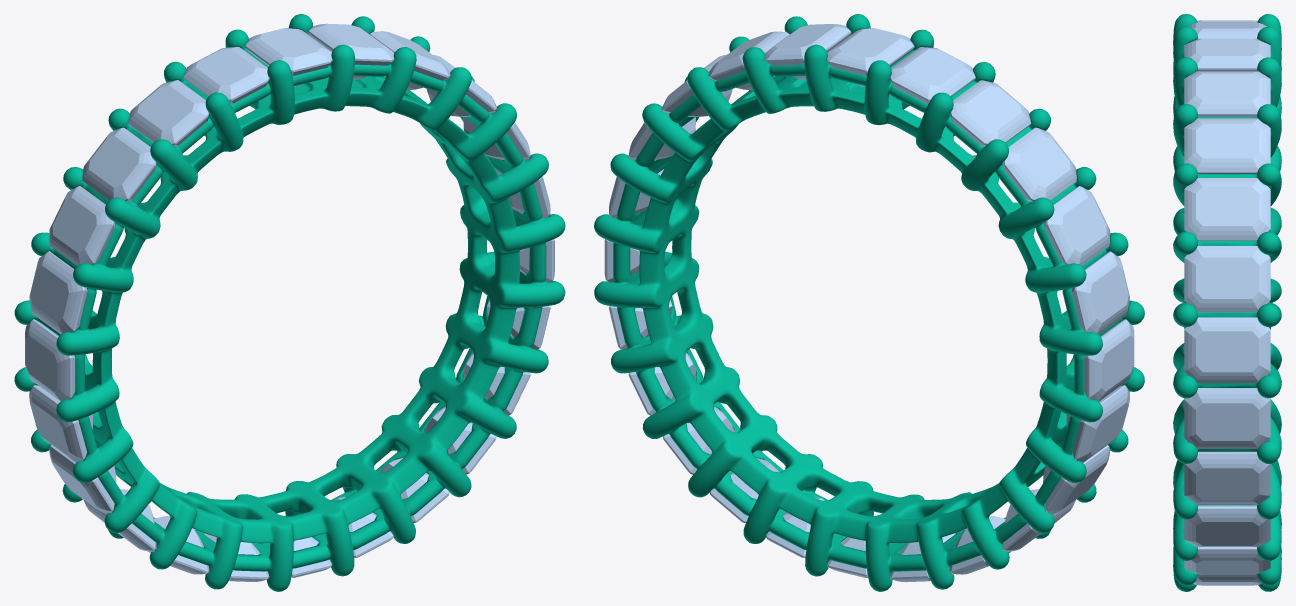
Rendered from BE2DEM300ELC_RENDER.glb.
The picture shows the model from 3 angles, left to right: view 1: azimuth 30°, elevation 25°; view 2: azimuth 150°, elevation 25°; view 3: azimuth 270°, elevation 25°; orthographic projection.
Visible parts, largest first — view 1: Metal 03, Diamond_Emerald_Gem_BD.003, Diamond_Emerald_Gem_BD.004, Diamond_Emerald_Gem_BD.002, Diamond_Emerald_Gem_BD.005, Diamond_Emerald_Gem_BD.001, Diamond_Emerald_Gem_BD.006, Diamond_Emerald_Gem_BD, Diamond_Emerald_Gem_BD.007, Diamond_Emerald_Gem_BD.023, Diamond_Emerald_Gem_BD.008, Diamond_Emerald_Gem_BD.022 (+8 smaller); view 2: Metal 03, Diamond_Emerald_Gem_BD.003, Diamond_Emerald_Gem_BD.004, Diamond_Emerald_Gem_BD.002, Diamond_Emerald_Gem_BD.005, Diamond_Emerald_Gem_BD.001, Diamond_Emerald_Gem_BD.006, Diamond_Emerald_Gem_BD, Diamond_Emerald_Gem_BD.007, Diamond_Emerald_Gem_BD.023, Diamond_Emerald_Gem_BD.008, Diamond_Emerald_Gem_BD.022 (+8 smaller); view 3: Metal 03, Diamond_Emerald_Gem_BD.020, Diamond_Emerald_Gem_BD.019, Diamond_Emerald_Gem_BD.021, Diamond_Emerald_Gem_BD.018, Diamond_Emerald_Gem_BD.022, Diamond_Emerald_Gem_BD.017, Diamond_Emerald_Gem_BD.023, Diamond_Emerald_Gem_BD.016, Diamond_Emerald_Gem_BD, Diamond_Emerald_Gem_BD.015, Diamond_Emerald_Gem_BD.001 (+1 smaller).
Part boxes in pixels (box(x1,y1,x2,y2)): Metal 03: box(14, 14, 565, 591); Diamond_Emerald_Gem_BD.003: box(82, 127, 156, 201); Diamond_Emerald_Gem_BD.004: box(49, 186, 115, 265); Diamond_Emerald_Gem_BD.002: box(128, 80, 209, 146); Diamond_Emerald_Gem_BD.005: box(29, 251, 87, 334); Diamond_Emerald_Gem_BD.001: box(183, 47, 269, 103); Diamond_Emerald_Gem_BD.006: box(25, 319, 85, 401); Diamond_Emerald_Gem_BD: box(244, 28, 332, 86); Diamond_Emerald_Gem_BD.007: box(29, 385, 92, 462); Diamond_Emerald_Gem_BD.023: box(308, 23, 394, 80); Diamond_Emerald_Gem_BD.008: box(49, 445, 116, 513); Diamond_Emerald_Gem_BD.022: box(369, 31, 450, 90); Metal 03: box(594, 14, 1144, 591); Diamond_Emerald_Gem_BD.003: box(1002, 127, 1076, 201); Diamond_Emerald_Gem_BD.004: box(1044, 186, 1110, 265); Diamond_Emerald_Gem_BD.002: box(950, 80, 1031, 146); Diamond_Emerald_Gem_BD.005: box(1071, 251, 1129, 334); Diamond_Emerald_Gem_BD.001: box(890, 47, 975, 103); Diamond_Emerald_Gem_BD.006: box(1074, 319, 1134, 401); Diamond_Emerald_Gem_BD: box(826, 28, 914, 86); Diamond_Emerald_Gem_BD.007: box(1066, 385, 1129, 462); Diamond_Emerald_Gem_BD.023: box(764, 24, 851, 80); Diamond_Emerald_Gem_BD.008: box(1043, 445, 1110, 514); Diamond_Emerald_Gem_BD.022: box(708, 31, 789, 90); Metal 03: box(1173, 14, 1281, 591); Diamond_Emerald_Gem_BD.020: box(1184, 246, 1270, 312); Diamond_Emerald_Gem_BD.019: box(1184, 317, 1270, 383); Diamond_Emerald_Gem_BD.021: box(1184, 178, 1270, 240); Diamond_Emerald_Gem_BD.018: box(1184, 388, 1270, 448); Diamond_Emerald_Gem_BD.022: box(1184, 118, 1270, 173); Diamond_Emerald_Gem_BD.017: box(1184, 451, 1270, 504); Diamond_Emerald_Gem_BD.023: box(1184, 71, 1270, 116); Diamond_Emerald_Gem_BD.016: box(1184, 505, 1270, 546); Diamond_Emerald_Gem_BD: box(1184, 38, 1270, 71); Diamond_Emerald_Gem_BD.015: box(1184, 547, 1270, 574); Diamond_Emerald_Gem_BD.001: box(1188, 21, 1266, 38).
Size of the model in its own units: 21.58 by 21.58 by 4.09.
